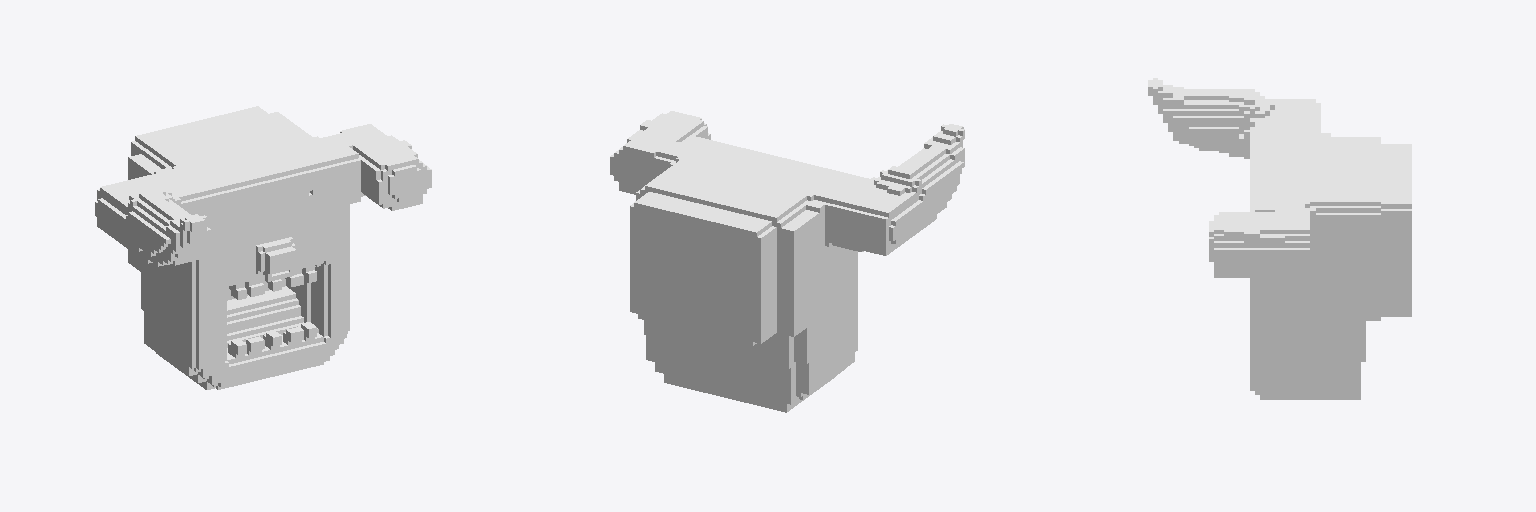
File: MeleeRogatiy-4.obj
The picture shows the model from 3 angles: view 1: azimuth 30°, elevation 25°; view 2: azimuth 150°, elevation 25°; view 3: azimuth 270°, elevation 25°; orthographic projection.
Parts seen in each view (by area): view 1: object 1; view 2: object 1; view 3: object 1.
Part boxes in pixels (x1,y1,x2,y2): object 1: (95, 106, 431, 389); object 1: (610, 111, 964, 412); object 1: (1148, 78, 1411, 399).
Size of the model in its own units: 6.5 by 4.9 by 5.2.